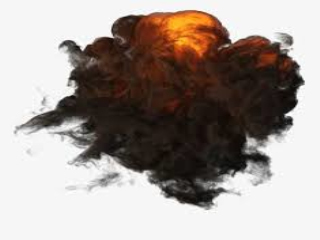smoke: (50, 17, 289, 196)
